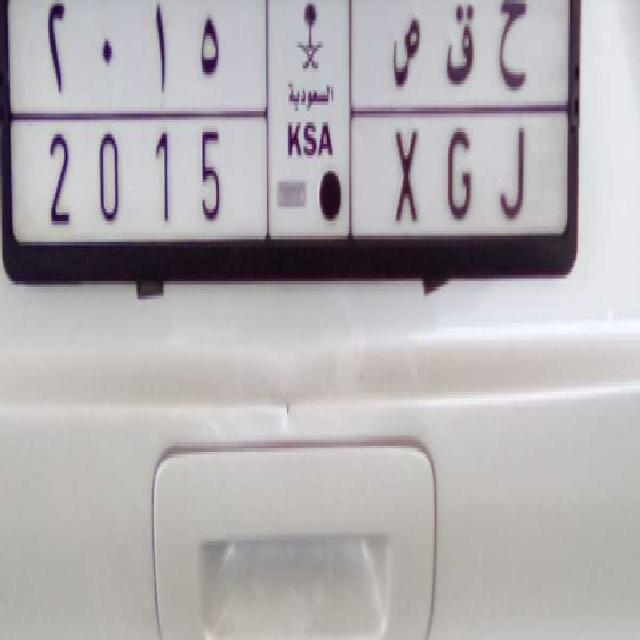license_plate: (15, 112, 566, 246)
